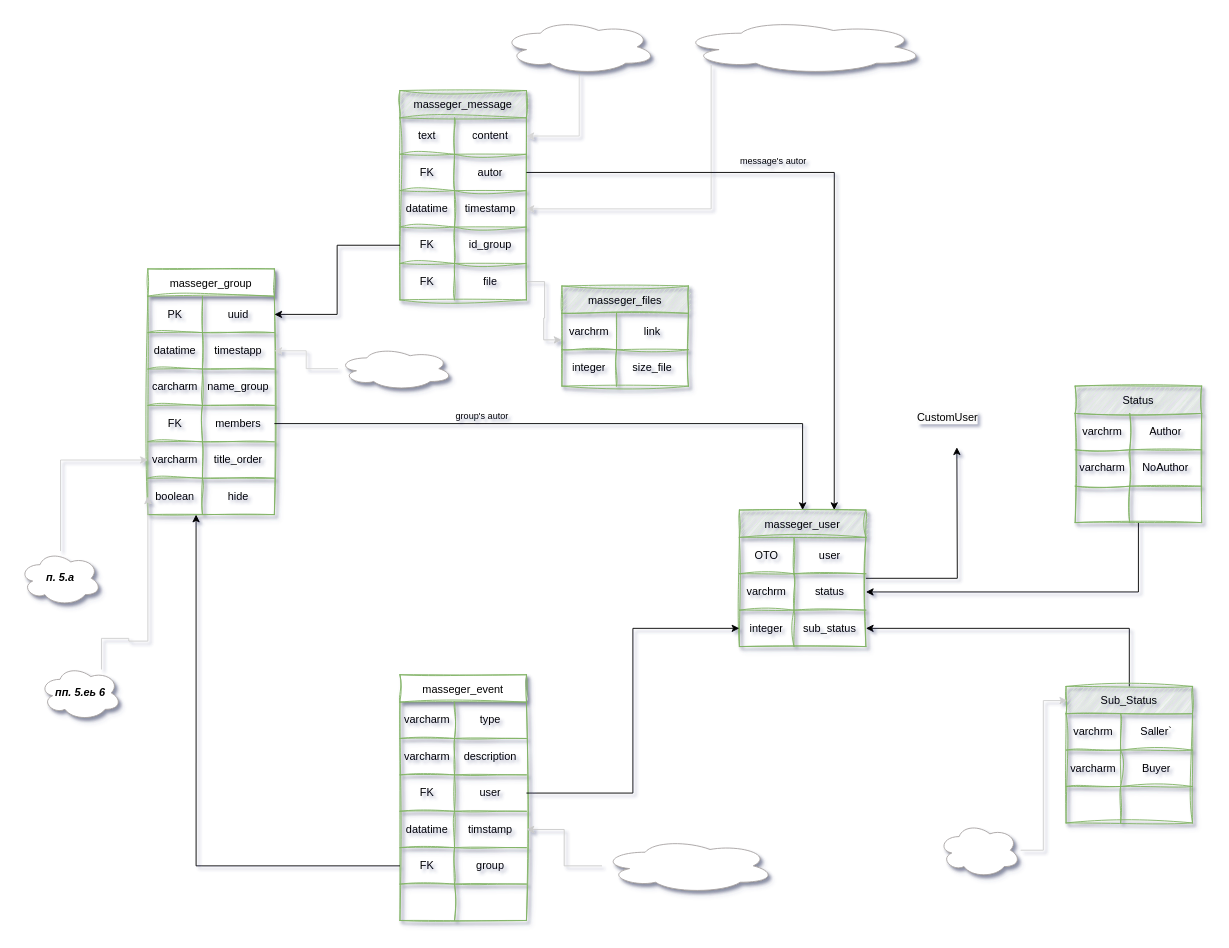
This 1229x948 diagram has some shape labels left out. Here are the shapes that lost their labels. From the top down, the centre of each, then its label:
[579,48]: A message's list. It's JSON format
[803,48]: time a message's create and change
[396,369]: this's the time group's create
[688,867]: time a group's create
[980,851]: п. 4.a
